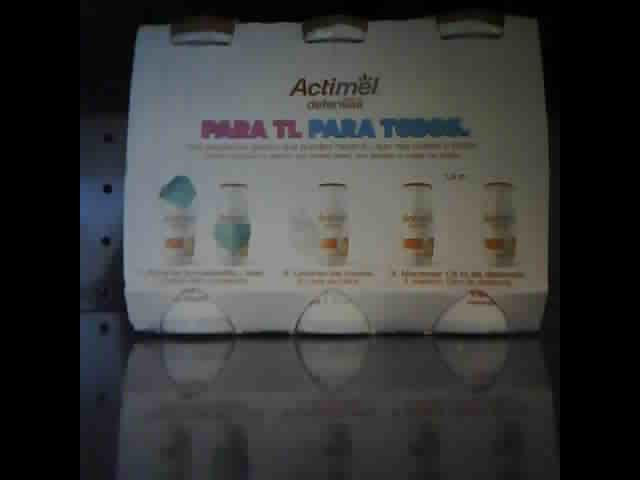actimel: (122, 17, 555, 336)
